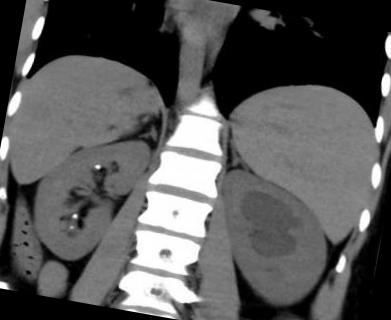Tas_Var: (92, 162, 101, 170), (70, 212, 78, 218), (67, 224, 74, 230)
